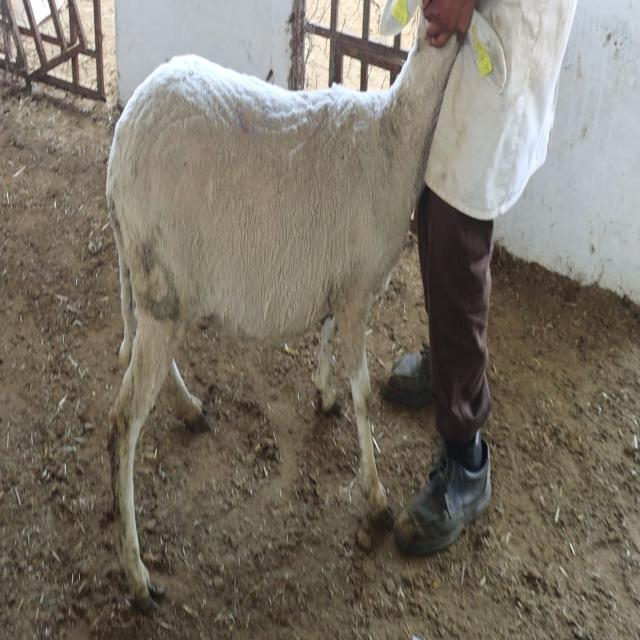Score_4: (106, 24, 460, 608)
